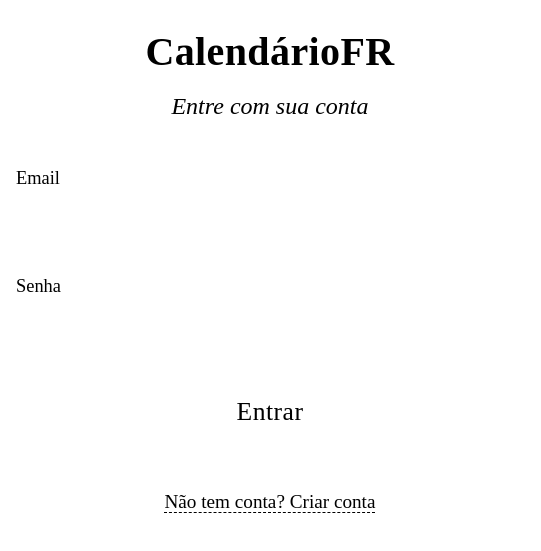
Test: AuthPage › blocks submit and shows both errors when both fields are empty
Click the button "Entrar" at (270, 412), box [16,376,524,448]
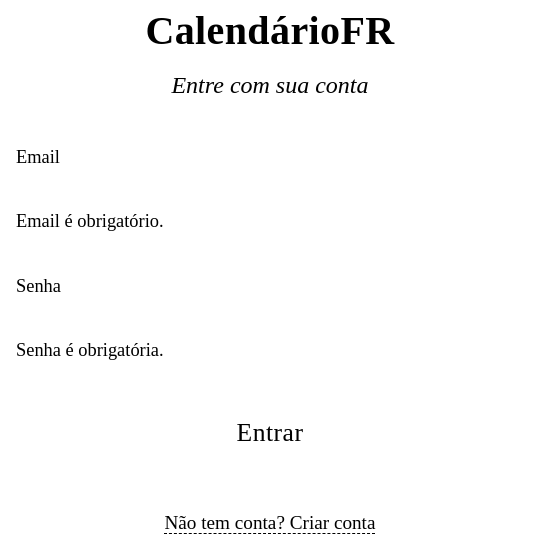
Expected: the text "Email é obrigatório." is shown, [16,211,164,231]
Expected: the text "Senha é obrigatória." is shown, [16,340,164,360]
